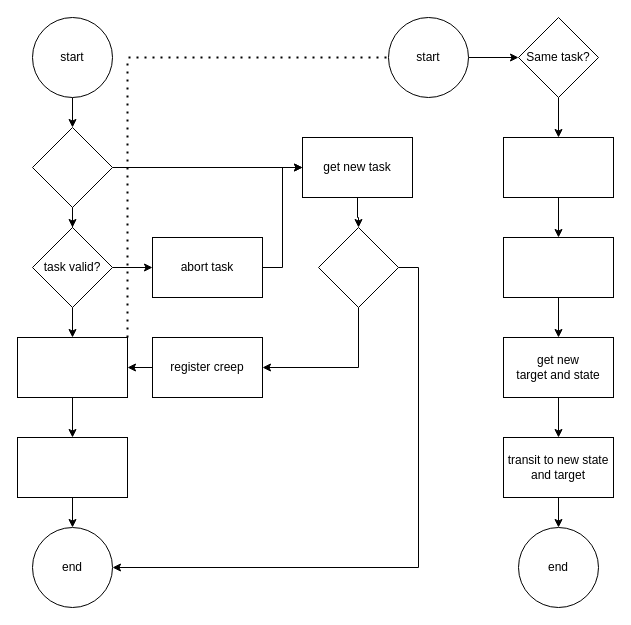
Some shapes in this 631 by 625 pixel diagram are drawn without their labels. The centre of each missing label's shape, as x and y in pixels:
"got one?" goes at point 358,267.
"Has task?" goes at point 72,167.
"run current state" goes at point 558,167.
"update task progress" goes at point 558,267.
"update task status" goes at point 72,467.
"work on task" goes at point 72,367.
